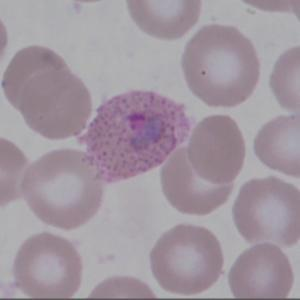Infected: (79, 92, 193, 182)
Uninfected: (182, 24, 262, 106), (19, 149, 100, 224), (148, 221, 223, 295), (161, 146, 232, 215), (20, 69, 91, 138), (235, 177, 300, 249), (12, 233, 81, 300), (4, 45, 71, 113), (188, 116, 243, 184), (228, 242, 292, 300), (251, 114, 300, 175)
